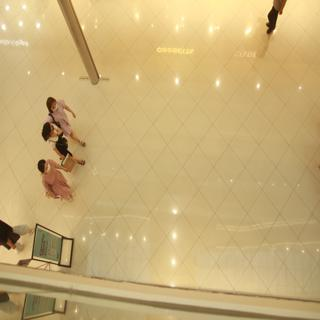person: (27, 156, 82, 210), (35, 121, 93, 165), (42, 95, 87, 133)
